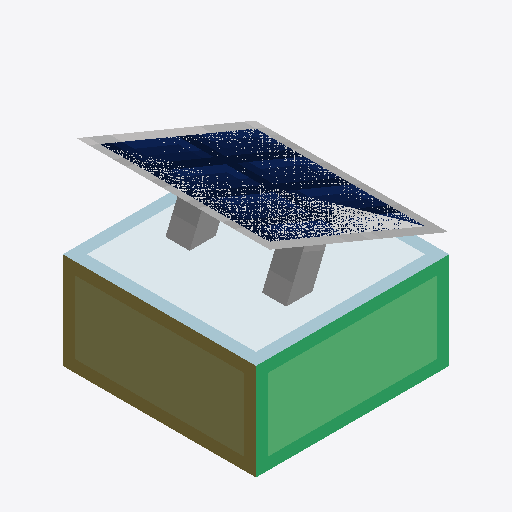
Isometric view (azimuth 45°, elevation 35.3°) of a Minecraft model made of 4 cuboids, textured from the same repository.
Parts seen in each view (by area): base, screen, arm (×2).
Boxes of the visible parts, x1=… form: base: x1=63, y1=192, x2=448, y2=476; screen: x1=77, y1=121, x2=446, y2=249; arm (×2): x1=166, y1=196, x2=325, y2=305.
Bounding box in the file's own units: 16 × 15.76 × 16.